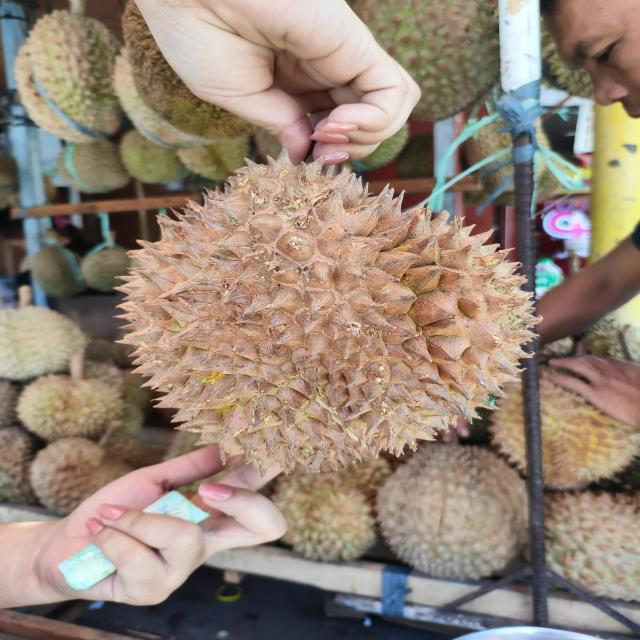mature: (106, 148, 545, 483)
